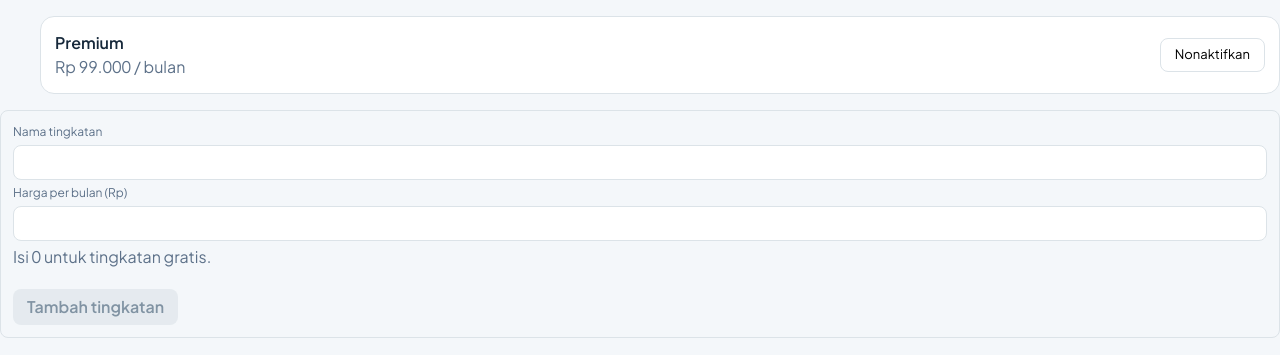
CommunityTiers › a confirmed deactivation removes it from the offer
Expected: the text "Premium" is shown, x1=55 y1=32 x2=124 y2=53
Click the button "Nonaktifkan": [1212, 55] box x1=1160 y1=38 x2=1265 y2=72
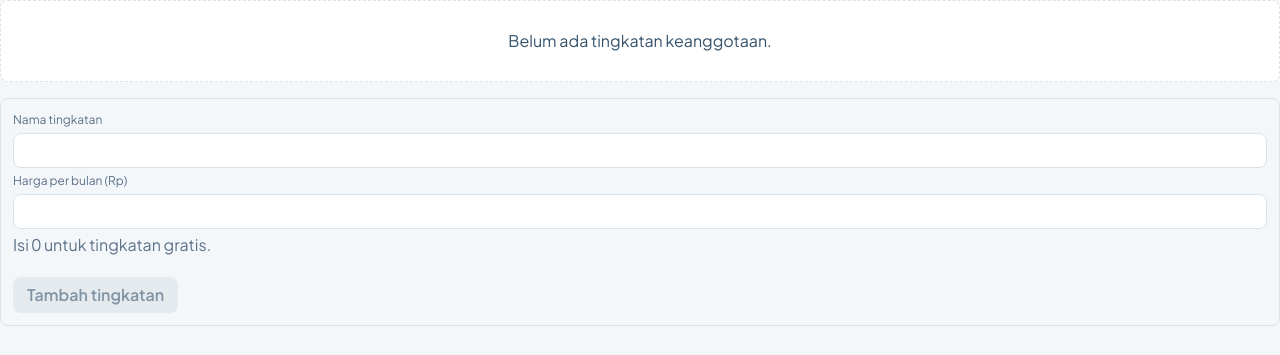
Expected: the text "Premium" is not shown
